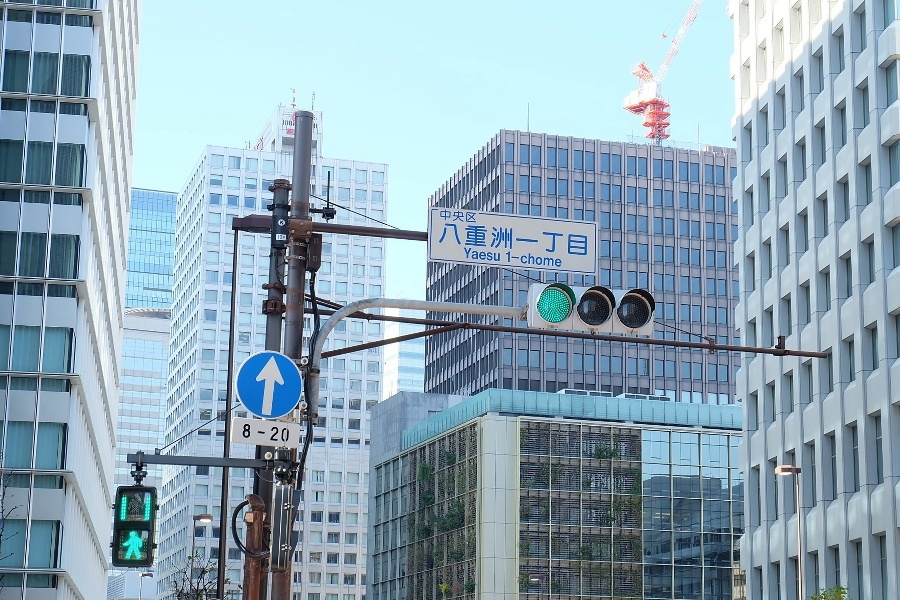text: (449, 223, 464, 257), (465, 223, 480, 257), (481, 223, 496, 257), (497, 223, 512, 257), (513, 223, 528, 257), (529, 223, 544, 257), (545, 223, 560, 257), (561, 223, 576, 257), (577, 223, 588, 257), (257, 424, 272, 444), (273, 424, 288, 444), (440, 223, 448, 257), (243, 424, 256, 444), (513, 252, 528, 268), (529, 252, 544, 268), (545, 252, 560, 268), (465, 248, 480, 262), (481, 248, 496, 262), (449, 210, 464, 223), (465, 210, 477, 223), (440, 210, 448, 223), (507, 252, 512, 268), (497, 248, 502, 262), (289, 424, 291, 444), (561, 252, 562, 268), (463, 248, 464, 262)
